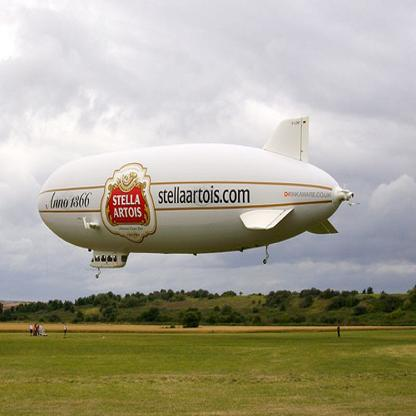Airship: (36, 117, 362, 271)
